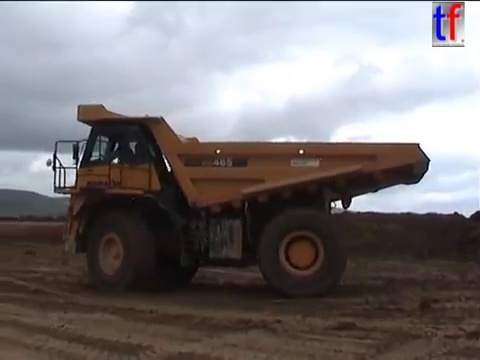truck: (44, 102, 432, 299)
